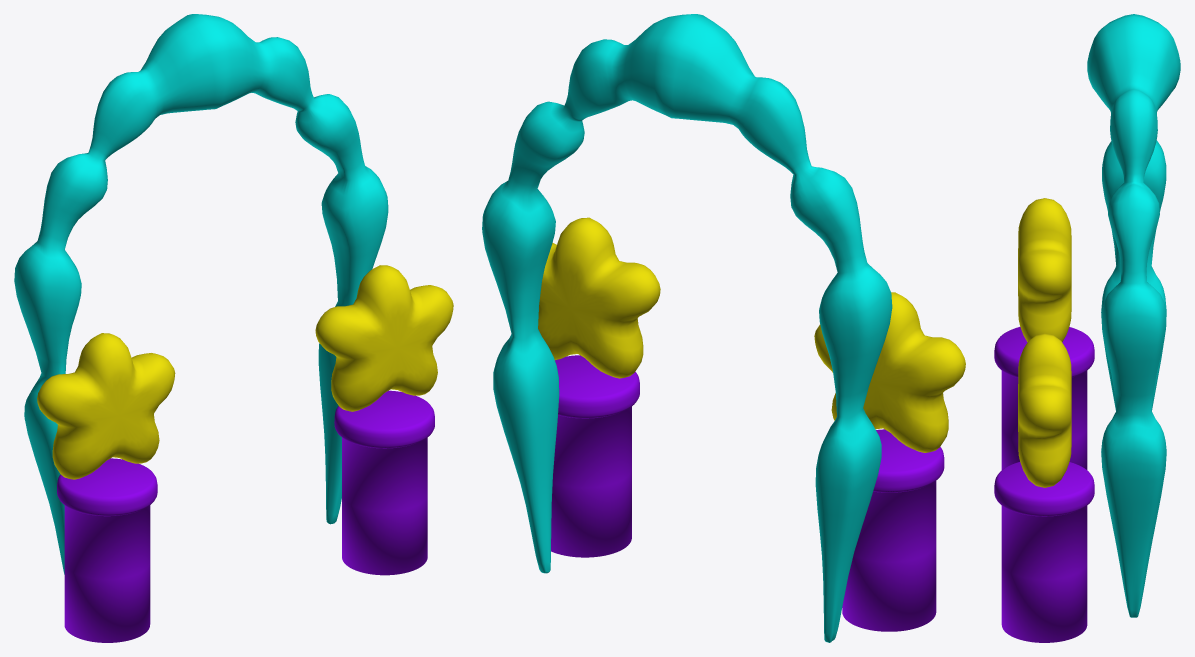
File: Door.fbx
The picture shows the model from 3 angles, left to right: view 1: azimuth 30°, elevation 25°; view 2: azimuth 150°, elevation 25°; view 3: azimuth 270°, elevation 25°; orthographic projection. The views are drawn at different scales.
Visible parts, largest first — view 1: DoorBridge_Arch, DoorBridge_BaseL, DoorBridge_BaseR, DoorBridge_AllowingStarR, DoorBridge_AllowingStarL; view 2: DoorBridge_Arch, DoorBridge_BaseR, DoorBridge_BaseL, DoorBridge_AllowingStarR, DoorBridge_AllowingStarL; view 3: DoorBridge_Arch, DoorBridge_BaseR, DoorBridge_AllowingStarR, DoorBridge_AllowingStarL, DoorBridge_BaseL.
Boxes of the visible parts, x1,y1,x2,y2 form: DoorBridge_Arch: (14,14,388,574); DoorBridge_BaseL: (57,458,157,642); DoorBridge_BaseR: (334,390,434,575); DoorBridge_AllowingStarR: (315,265,453,411); DoorBridge_AllowingStarL: (37,333,175,479); DoorBridge_Arch: (482,14,892,642); DoorBridge_BaseR: (551,355,639,557); DoorBridge_BaseL: (842,429,944,631); DoorBridge_AllowingStarR: (538,217,660,378); DoorBridge_AllowingStarL: (814,292,965,452); DoorBridge_Arch: (1087,14,1180,617); DoorBridge_BaseR: (994,462,1094,642); DoorBridge_AllowingStarR: (1018,333,1071,487); DoorBridge_AllowingStarL: (1018,198,1071,341); DoorBridge_BaseL: (994,327,1094,469).
Size of the model in its own units: 1122 by 1413 by 442.
